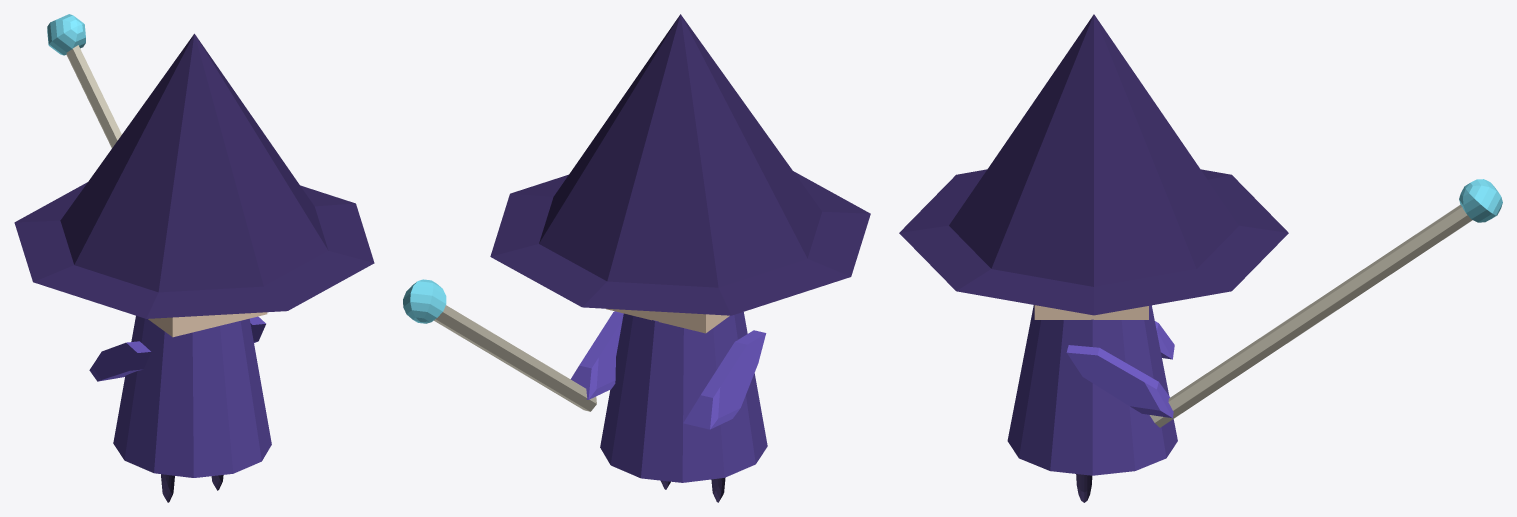
File: Mage.fbx
The picture shows the model from 3 angles, left to right: view 1: azimuth 30°, elevation 25°; view 2: azimuth 150°, elevation 25°; view 3: azimuth 270°, elevation 25°; orthographic projection. The views are drawn at different scales.
Parts seen in each view (by area): view 1: Hat, Robe, Hat_Piece, l_Arm, Staff, Head, Orb; view 2: Hat, Robe, l_Arm, Staff, R_Arm, Orb, Head; view 3: Hat, Robe, Staff, R_Arm, Orb, Head.
Boxes of the visible parts, <box> form: Hat: <box>14,34,374,318</box>; Robe: <box>113,315,271,477</box>; Hat_Piece: <box>158,33,263,292</box>; l_Arm: <box>89,341,150,381</box>; Staff: <box>66,45,121,147</box>; Head: <box>148,312,267,337</box>; Orb: <box>47,14,85,55</box>; Hat: <box>490,14,870,315</box>; Robe: <box>600,312,767,482</box>; l_Arm: <box>683,330,766,429</box>; Staff: <box>434,305,596,411</box>; R_Arm: <box>570,311,623,399</box>; Orb: <box>403,279,446,323</box>; Head: <box>606,308,729,333</box>; Hat: <box>899,14,1288,315</box>; Robe: <box>1007,305,1177,475</box>; Staff: <box>1149,205,1472,427</box>; R_Arm: <box>1066,345,1173,418</box>; Orb: <box>1459,179,1502,222</box>; Head: <box>1034,305,1148,319</box>.
Bounding box in the file's own units: 6.82 × 9.26 × 10.56.
